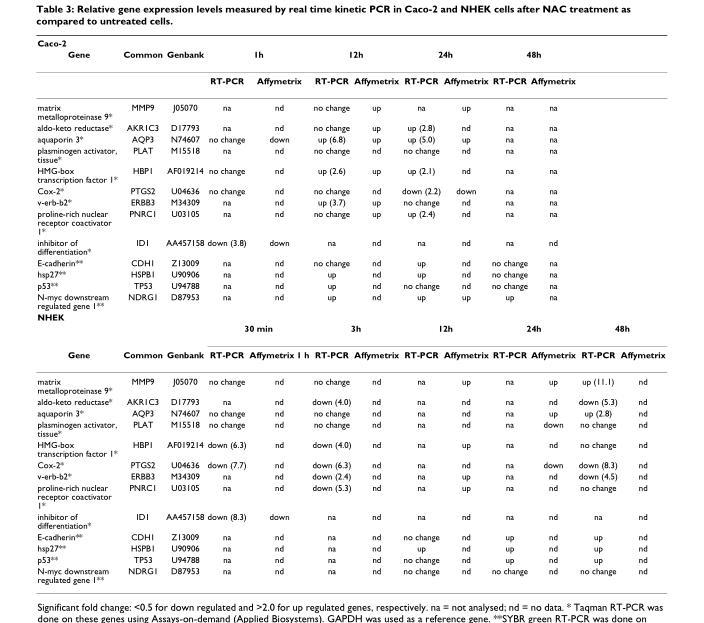table: (36, 37, 664, 584)
table column: (36, 37, 119, 584), (247, 37, 309, 584), (351, 37, 399, 584), (441, 37, 489, 584), (528, 37, 576, 584), (618, 37, 664, 584), (119, 37, 163, 584), (163, 37, 205, 584), (205, 37, 247, 584), (309, 37, 351, 584), (399, 37, 441, 584), (576, 37, 618, 584), (489, 37, 528, 584)
table column header: (36, 37, 664, 93)
table projected row header: (36, 310, 664, 322)
table row: (36, 207, 664, 236), (36, 481, 664, 510), (36, 93, 664, 121), (36, 367, 664, 395), (36, 67, 664, 93), (36, 341, 664, 367), (36, 144, 664, 164), (36, 164, 664, 184), (36, 236, 664, 256), (36, 290, 664, 310), (36, 418, 664, 438), (36, 438, 664, 458), (36, 510, 664, 530), (36, 564, 664, 584), (36, 48, 664, 67), (36, 322, 664, 341), (36, 132, 664, 144), (36, 195, 664, 207), (36, 267, 664, 279), (36, 310, 664, 322), (36, 406, 664, 418), (36, 469, 664, 481), (36, 541, 664, 553), (36, 37, 664, 48), (36, 121, 664, 132), (36, 184, 664, 195), (36, 256, 664, 267), (36, 279, 664, 290), (36, 395, 664, 406), (36, 458, 664, 469), (36, 530, 664, 541), (36, 553, 664, 564)
table spanning cell: (36, 37, 664, 48), (36, 48, 119, 93), (119, 48, 163, 93), (205, 48, 309, 67), (205, 322, 309, 341), (163, 48, 205, 93), (309, 48, 399, 67), (399, 48, 489, 67), (309, 322, 399, 341), (399, 322, 489, 341), (576, 322, 664, 341), (489, 48, 576, 67), (489, 322, 576, 341)
